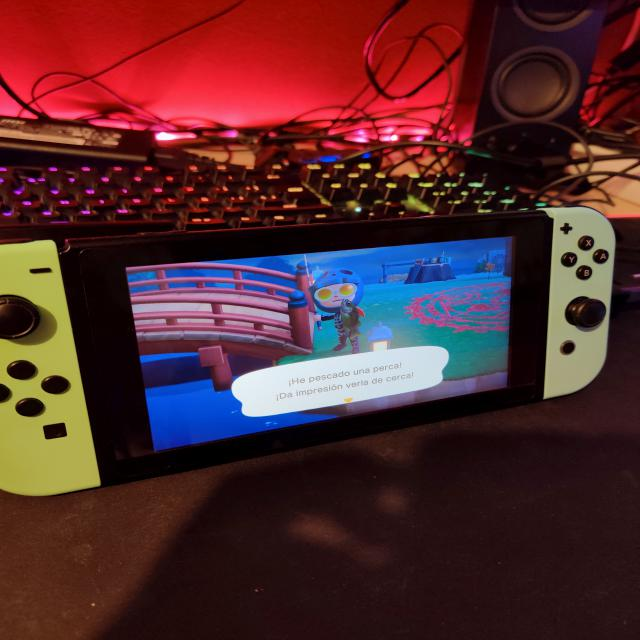text_bubble: (232, 346, 453, 419)
